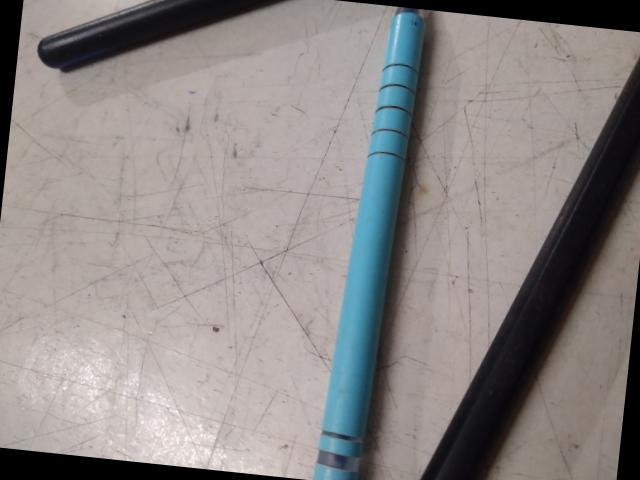PEN: (0, 283, 471, 450), (349, 5, 505, 306), (0, 388, 460, 480)
